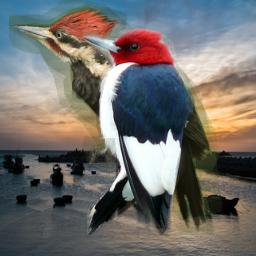Woodpecker: (9, 0, 227, 235), (82, 22, 195, 242)
